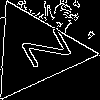Z: (10, 26, 72, 75)
